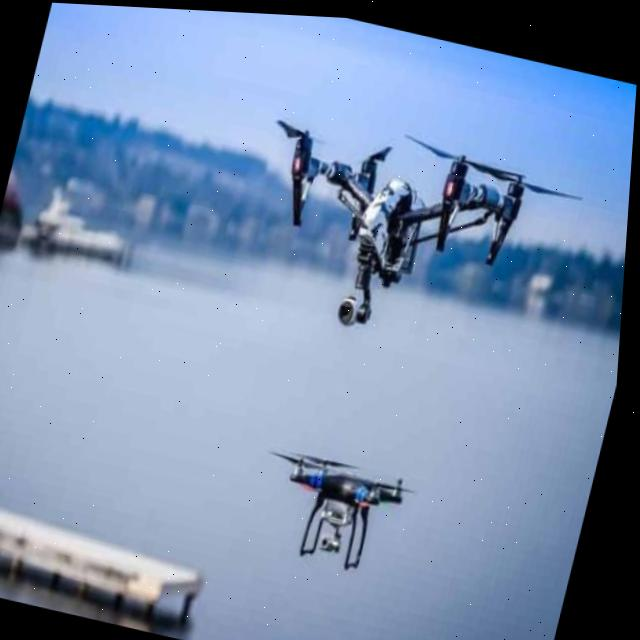drones: (203, 53, 603, 417), (219, 386, 460, 605)
